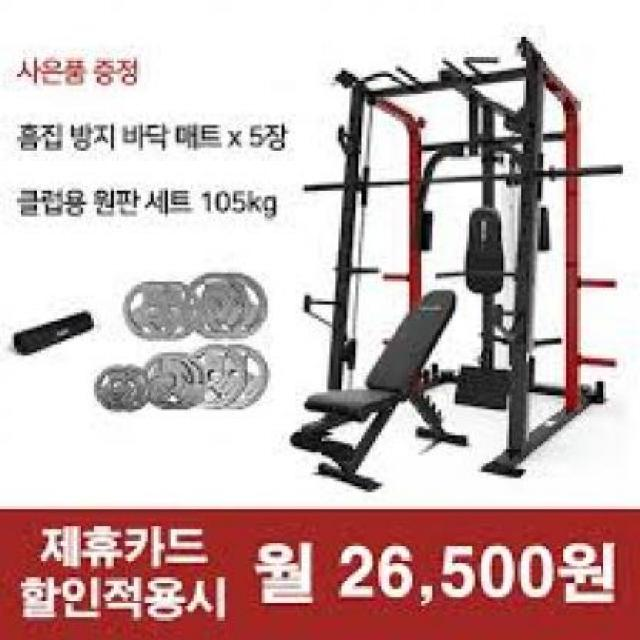smith machine: (289, 38, 625, 494)
